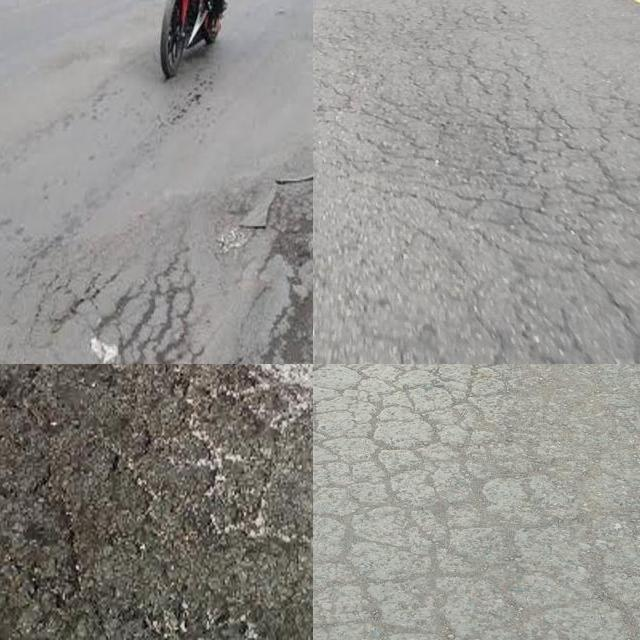Retak Buaya: (314, 0, 640, 364), (313, 364, 532, 640)
